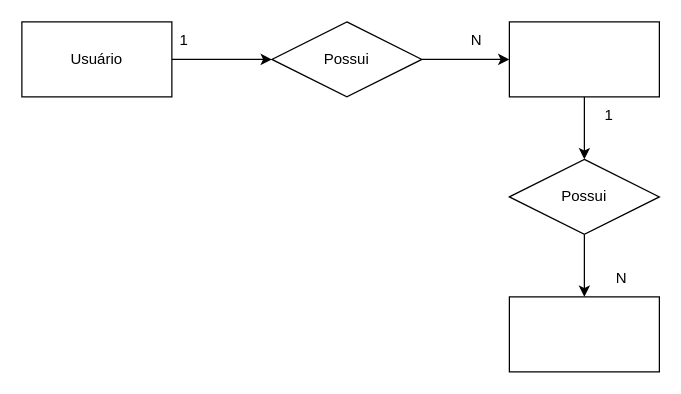
This 681x394 diagram has some shape labels left out. The box of each missing label's shape, as (x1, y1, x2, y2) in pixels:
Metas: (508, 296, 659, 372)
Objetivo: (508, 21, 659, 97)
